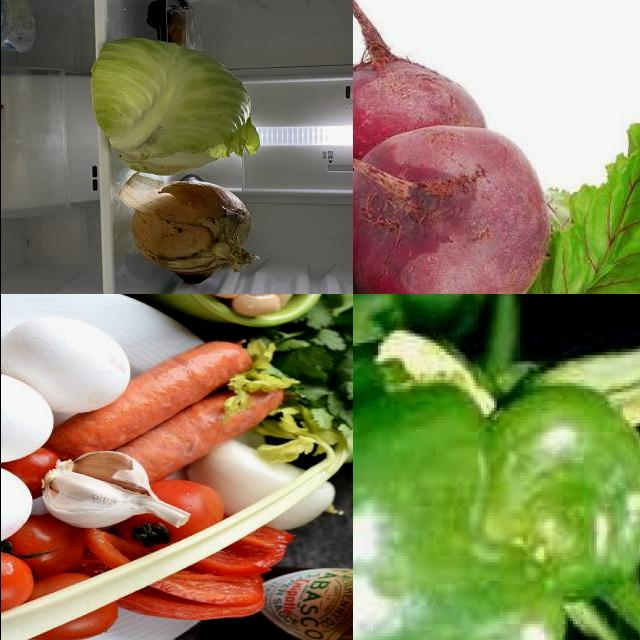beet: (353, 125, 547, 295), (353, 45, 481, 201)
bell_pepper: (353, 302, 640, 640)
cabbage: (91, 41, 261, 176)
carrot: (178, 385, 278, 439), (153, 344, 243, 400)
egg: (1, 321, 130, 406), (1, 372, 56, 442)
garlic: (46, 464, 183, 528)
onion: (133, 180, 256, 277)
tomato: (1, 557, 35, 608)
